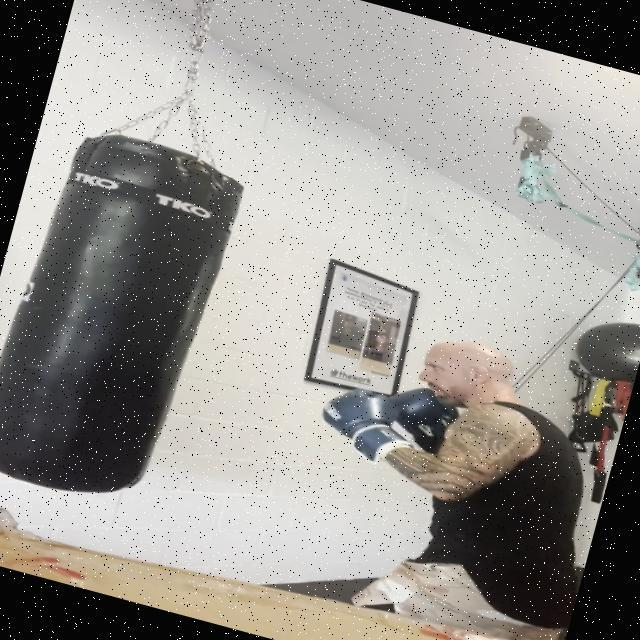bag: (0, 113, 262, 517)
no punch: (295, 302, 618, 540)
